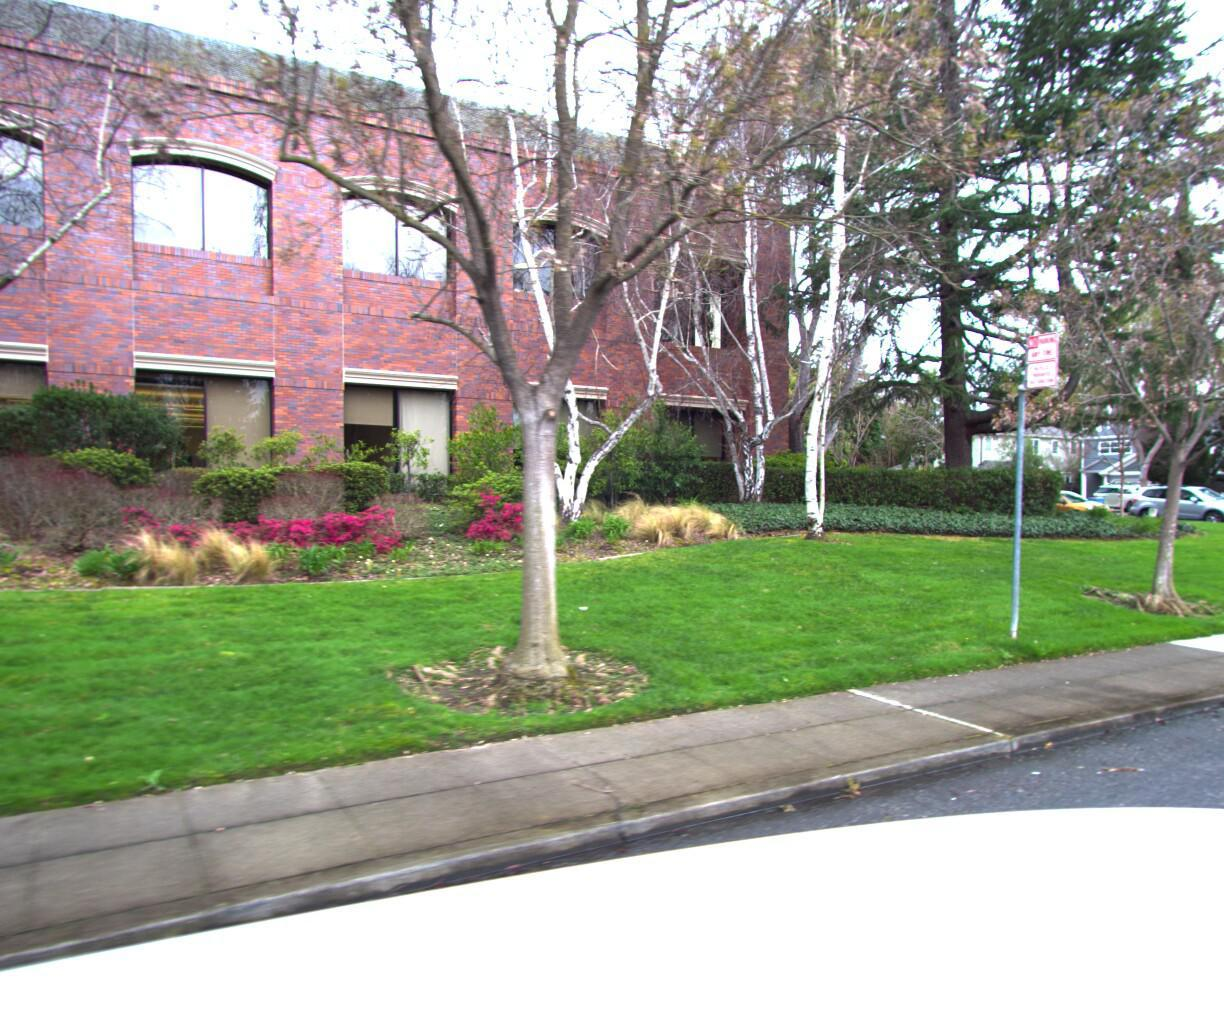car: (1123, 484, 1224, 532), (1004, 489, 1114, 527), (1083, 486, 1156, 515)
